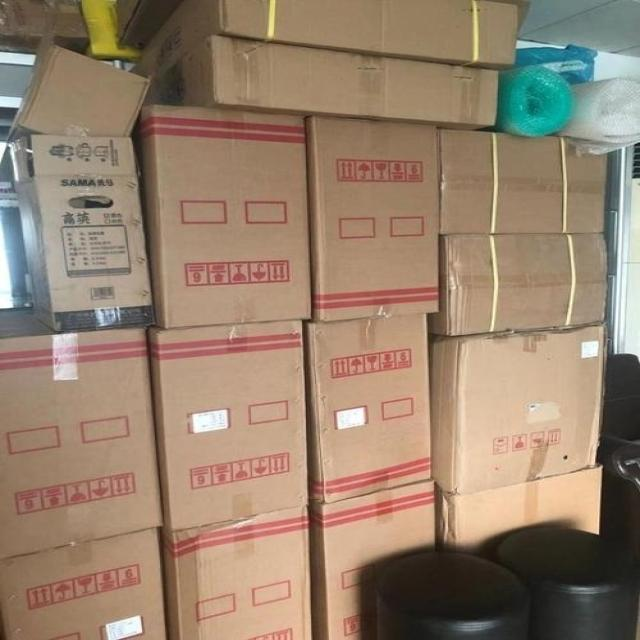box: (0, 307, 163, 559), (129, 105, 311, 328), (124, 34, 499, 126), (150, 320, 308, 533), (429, 322, 609, 495), (6, 132, 152, 331), (305, 115, 442, 320), (115, 2, 518, 71), (302, 312, 433, 507), (163, 504, 315, 640), (312, 479, 439, 638), (0, 525, 170, 640), (428, 232, 607, 337), (439, 128, 608, 235), (430, 465, 602, 565), (5, 45, 147, 148)
